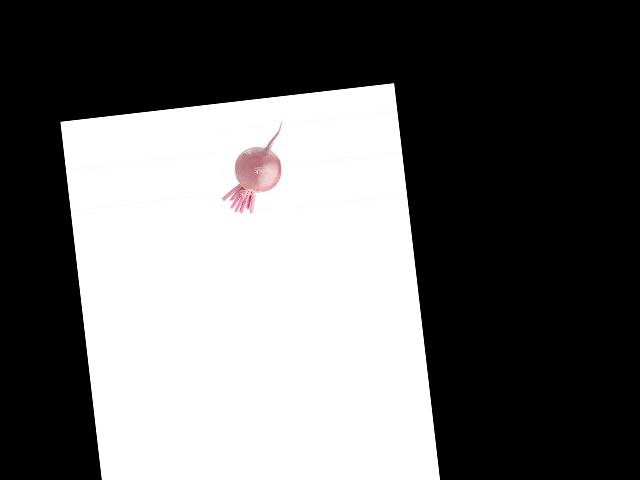beet: (213, 121, 292, 216)
